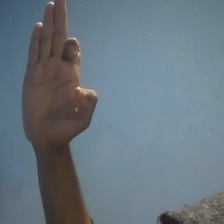F: (20, 1, 99, 148)
